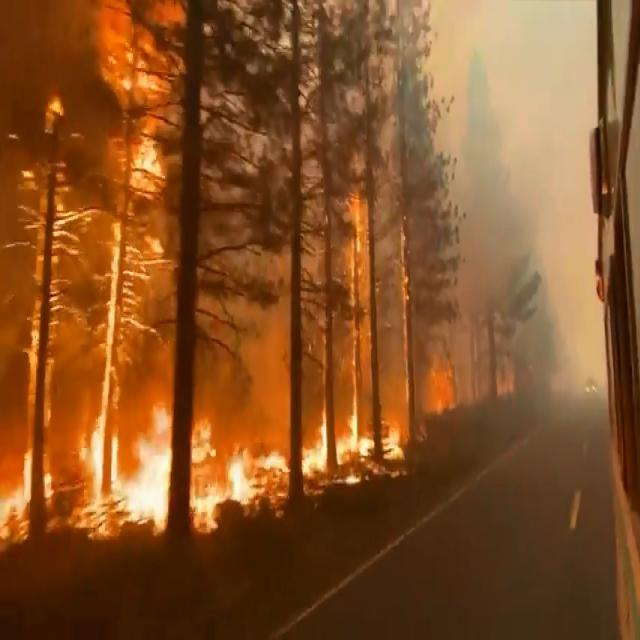Fire: (3, 2, 414, 536)
